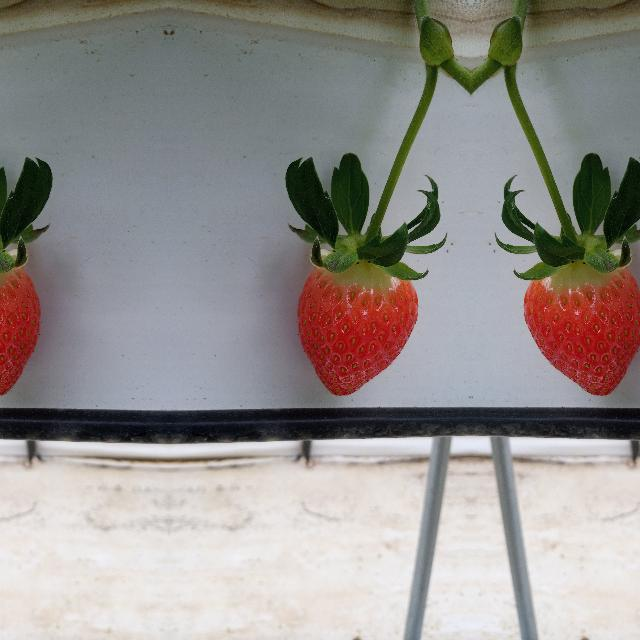Health_100: (294, 248, 418, 396), (523, 248, 640, 396), (0, 248, 41, 396)
